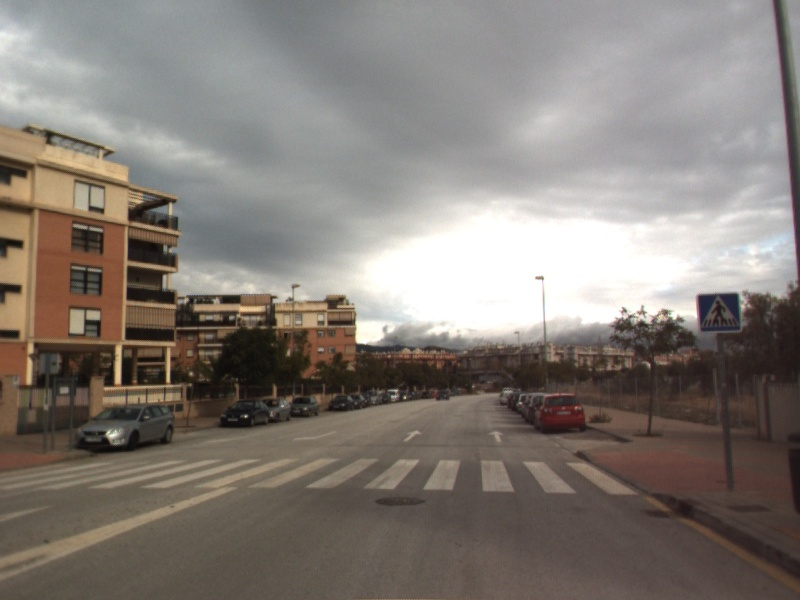STRAIGHT: (402, 428, 425, 444), (486, 429, 506, 444)
